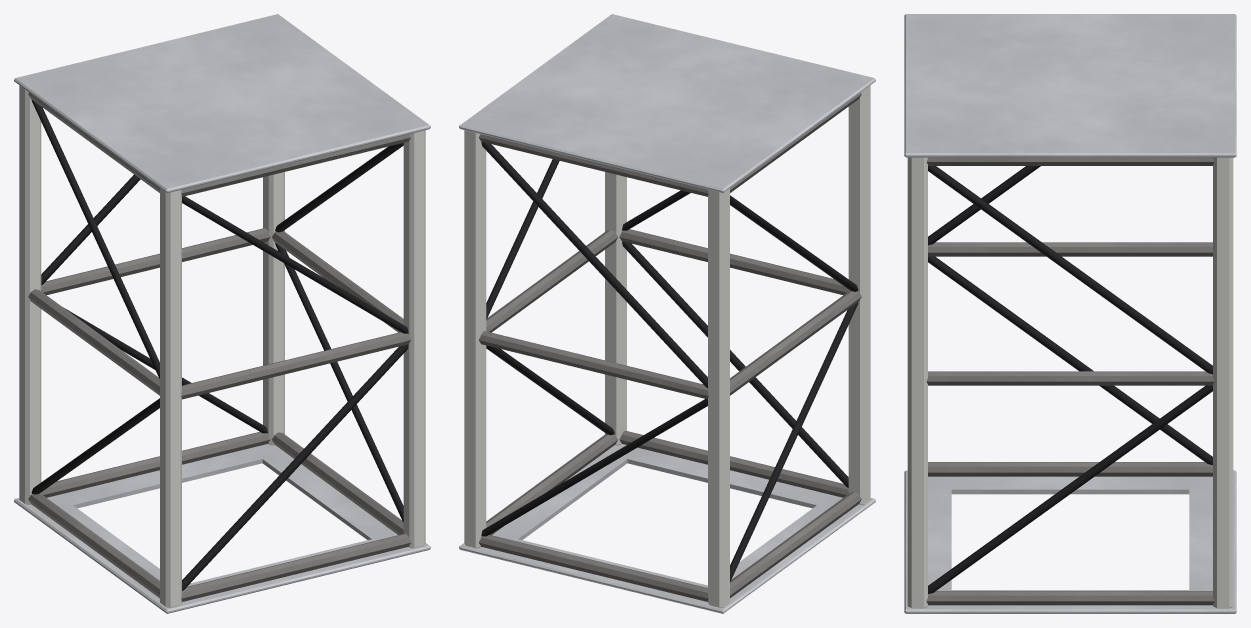
Rendered from ax_gear_08_square_truss_m.glb.
3 views of the same model, side by side, from view 1: azimuth 30°, elevation 25°; view 2: azimuth 150°, elevation 25°; view 3: azimuth 270°, elevation 25° (orthographic). The views are drawn at different scales.
Parts seen in each view (by area): view 1: end_frames, longerons, battens, diagonals; view 2: end_frames, longerons, battens, diagonals; view 3: end_frames, battens, longerons, diagonals.
Part boxes in pixels (<box>): end_frames: <box>14,14,430,613</box>; longerons: <box>19,85,425,607</box>; battens: <box>28,92,411,601</box>; diagonals: <box>31,100,408,590</box>; end_frames: <box>459,14,875,613</box>; longerons: <box>464,85,870,607</box>; battens: <box>478,92,861,601</box>; diagonals: <box>481,142,858,581</box>; end_frames: <box>904,14,1236,613</box>; battens: <box>926,157,1214,605</box>; longerons: <box>907,157,1233,608</box>; diagonals: <box>928,166,1212,593</box>.
Size of the model in its own units: 1.96 by 3 by 1.96.
Materials: 4 (2 with a texture image).
